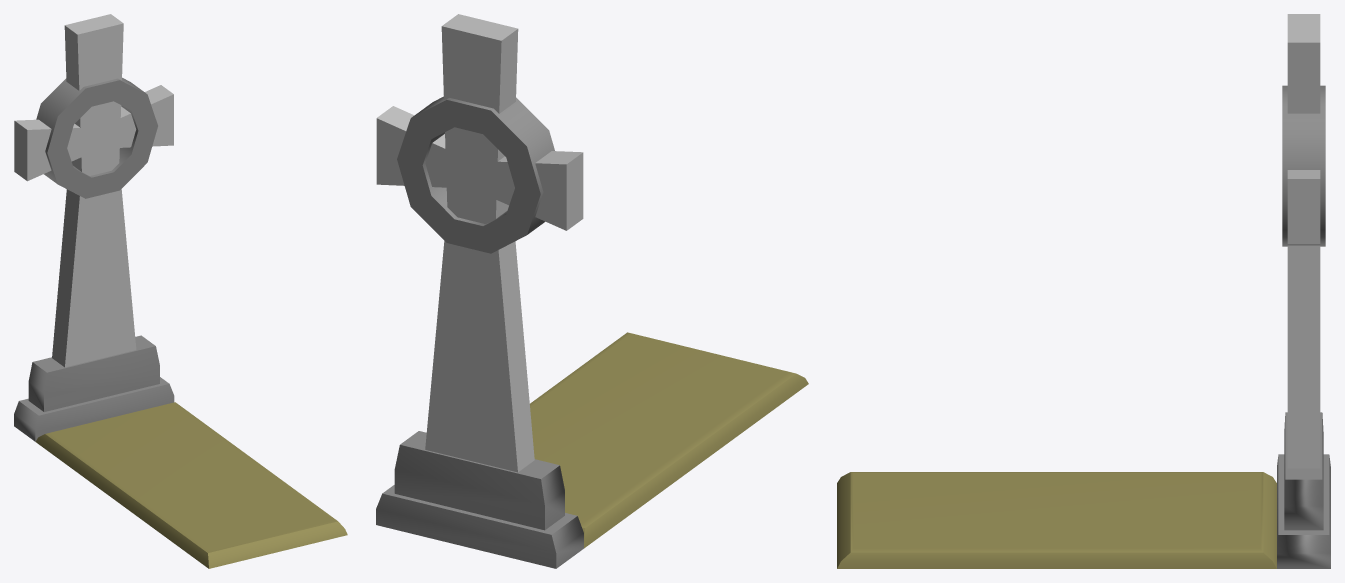
File: Prop_TombstoneFancyDirt_01.fbx
3 views of the same model, side by side, from view 1: azimuth 30°, elevation 25°; view 2: azimuth 150°, elevation 25°; view 3: azimuth 270°, elevation 25° (orthographic). The views are drawn at different scales.
Visible parts, largest first — view 1: TombstoneFancy, GraveDirt1; view 2: TombstoneFancy, GraveDirt1; view 3: GraveDirt1, TombstoneFancy.
Part boxes in pixels (x1,y1,x2,y2): TombstoneFancy: (14, 14, 174, 441); GraveDirt1: (35, 402, 347, 568); TombstoneFancy: (376, 14, 583, 568); GraveDirt1: (530, 332, 808, 548); GraveDirt1: (837, 472, 1276, 568); TombstoneFancy: (1277, 14, 1330, 568).
Size of the model in its own units: 1.88 by 4.81 by 4.32.
